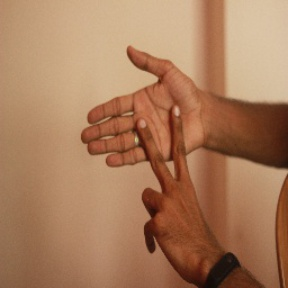N: (76, 42, 209, 224)
